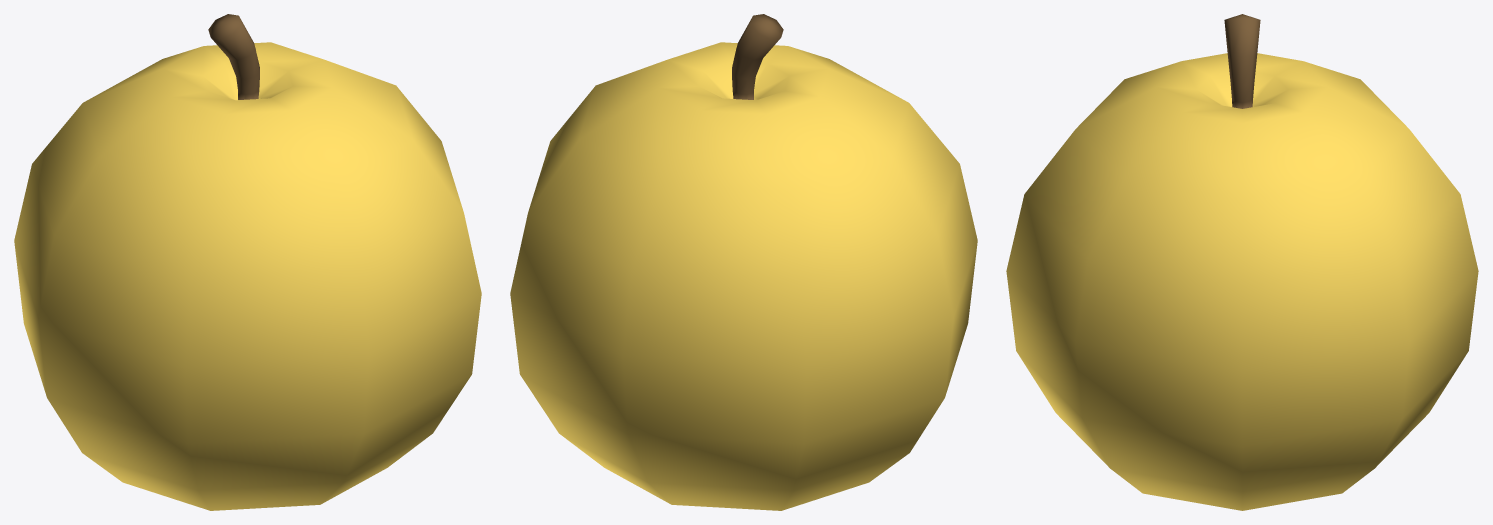
Rendered from golden_apple.glb.
3 renders of one model, left to right at view 1: azimuth 30°, elevation 25°; view 2: azimuth 150°, elevation 25°; view 3: azimuth 270°, elevation 25°, orthographic. The views are drawn at different scales.
Parts seen in each view (by area): view 1: apple; view 2: apple; view 3: apple.
Part boxes in pixels (x1,y1,x2,y2): apple: (14,14,481,510); apple: (510,14,977,510); apple: (1006,14,1478,510).
Bounding box in the file's own units: 0.1601 × 0.1682 × 0.1601.
